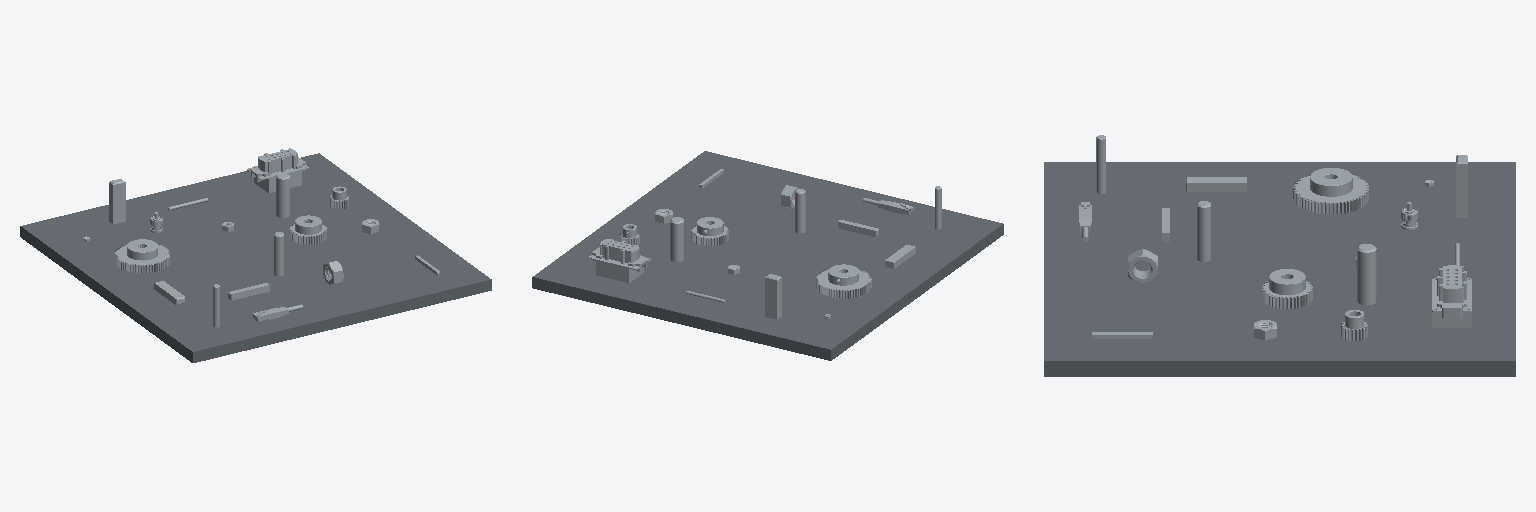
The robot description file, URDF, robot "taskboard_environment":
<?xml version="1.0"?>
<robot name="taskboard_environment">

  <!-- World Frame Root -->
  <link name="world"/>

  <!-- =================================================================== -->
  <!-- ENVIRONMENT OBJECTS & TASKBOARD LINKS                               -->
  <!-- =================================================================== -->

  <link name="taskboard_link">
    <inertial>
      <mass value="1.0" />
      <inertia ixx="0.001" ixy="0.0" ixz="0.0" iyy="0.001" iyz="0.0" izz="0.001" />
    </inertial>
    <visual>
      <geometry>
        <mesh filename="package://project_description/meshes/taskboard_1/dae/Taskboard_Origin.dae" />
      </geometry>
    </visual>
    <collision>
      <geometry>
        <mesh filename="package://project_description/meshes/taskboard_1/dae/Taskboard_Origin.dae" />
      </geometry>
    </collision>
  </link>

  <link name="tray_link">
    <inertial>
      <mass value="0.5" />
      <inertia ixx="0.001" ixy="0.0" ixz="0.0" iyy="0.001" iyz="0.0" izz="0.001" />
    </inertial>
    <visual>
      <geometry>
        <mesh filename="package://project_description/meshes/taskboard_1/dae/Tray.dae" />
      </geometry>
    </visual>
    <collision>
      <geometry>
        <mesh filename="package://project_description/meshes/taskboard_1/dae/Tray.dae" />
      </geometry>
    </collision>
  </link>

  <link name="m16_nut_link">
    <inertial>
      <mass value="0.01" />
      <inertia ixx="0.00001" ixy="0.0" ixz="0.0" iyy="0.00001" iyz="0.0" izz="0.00001" />
    </inertial>
    <visual>
      <geometry>
        <mesh filename="package://project_description/meshes/taskboard_1/dae/M16_Nut.dae" />
      </geometry>
    </visual>
    <collision>
      <geometry>
        <mesh filename="package://project_description/meshes/taskboard_1/dae/M16_Nut.dae" />
      </geometry>
    </collision>
  </link>

  <link name="m12_nut_link">
    <inertial>
      <mass value="0.01" />
      <inertia ixx="0.00001" ixy="0.0" ixz="0.0" iyy="0.00001" iyz="0.0" izz="0.00001" />
    </inertial>
    <visual>
      <geometry>
        <mesh filename="package://project_description/meshes/taskboard_1/dae/M12_Nut.dae" />
      </geometry>
    </visual>
    <collision>
      <geometry>
        <mesh filename="package://project_description/meshes/taskboard_1/dae/M12_Nut.dae" />
      </geometry>
    </collision>
  </link>

  <link name="m8_nut_link">
    <inertial>
      <mass value="0.01" />
      <inertia ixx="0.00001" ixy="0.0" ixz="0.0" iyy="0.00001" iyz="0.0" izz="0.00001" />
    </inertial>
    <visual>
      <geometry>
        <mesh filename="package://project_description/meshes/taskboard_1/dae/M8_Nut.dae" />
      </geometry>
    </visual>
    <collision>
      <geometry>
        <mesh filename="package://project_description/meshes/taskboard_1/dae/M8_Nut.dae" />
      </geometry>
    </collision>
  </link>

  <link name="m4_nut_link">
    <inertial>
      <mass value="0.01" />
      <inertia ixx="0.00001" ixy="0.0" ixz="0.0" iyy="0.00001" iyz="0.0" izz="0.00001" />
    </inertial>
    <visual>
      <geometry>
        <mesh filename="package://project_description/meshes/taskboard_1/dae/M4_Nut.dae" />
      </geometry>
    </visual>
    <collision>
      <geometry>
        <mesh filename="package://project_description/meshes/taskboard_1/dae/M4_Nut.dae" />
      </geometry>
    </collision>
  </link>

  <link name="ket16_link">
    <inertial>
      <mass value="0.01" />
      <inertia ixx="0.00001" ixy="0.0" ixz="0.0" iyy="0.00001" iyz="0.0" izz="0.00001" />
    </inertial>
    <visual>
      <geometry>
        <mesh filename="package://project_description/meshes/taskboard_1/dae/KET16.dae" />
      </geometry>
    </visual>
    <collision>
      <geometry>
        <mesh filename="package://project_description/meshes/taskboard_1/dae/KET16.dae" />
      </geometry>
    </collision>
  </link>

  <link name="ket12_link">
    <inertial>
      <mass value="0.01" />
      <inertia ixx="0.00001" ixy="0.0" ixz="0.0" iyy="0.00001" iyz="0.0" izz="0.00001" />
    </inertial>
    <visual>
      <geometry>
        <mesh filename="package://project_description/meshes/taskboard_1/dae/KET12.dae" />
      </geometry>
    </visual>
    <collision>
      <geometry>
        <mesh filename="package://project_description/meshes/taskboard_1/dae/KET12.dae" />
      </geometry>
    </collision>
  </link>

  <link name="ket8_link">
    <inertial>
      <mass value="0.01" />
      <inertia ixx="0.00001" ixy="0.0" ixz="0.0" iyy="0.00001" iyz="0.0" izz="0.00001" />
    </inertial>
    <visual>
      <geometry>
        <mesh filename="package://project_description/meshes/taskboard_1/dae/KET8.dae" />
      </geometry>
    </visual>
    <collision>
      <geometry>
        <mesh filename="package://project_description/meshes/taskboard_1/dae/KET8.dae" />
      </geometry>
    </collision>
  </link>

  <link name="ket4_link">
    <inertial>
      <mass value="0.01" />
      <inertia ixx="0.00001" ixy="0.0" ixz="0.0" iyy="0.00001" iyz="0.0" izz="0.00001" />
    </inertial>
    <visual>
      <geometry>
        <mesh filename="package://project_description/meshes/taskboard_1/dae/KET4.dae" />
      </geometry>
    </visual>
    <collision>
      <geometry>
        <mesh filename="package://project_description/meshes/taskboard_1/dae/KET4.dae" />
      </geometry>
    </collision>
  </link>

  <link name="gear_large_link">
    <inertial>
      <mass value="0.02" />
      <inertia ixx="0.00001" ixy="0.0" ixz="0.0" iyy="0.00001" iyz="0.0" izz="0.00001" />
    </inertial>
    <visual>
      <geometry>
        <mesh filename="package://project_description/meshes/taskboard_1/dae/Gear_Large.dae" />
      </geometry>
    </visual>
    <collision>
      <geometry>
        <mesh filename="package://project_description/meshes/taskboard_1/dae/Gear_Large.dae" />
      </geometry>
    </collision>
  </link>

  <link name="gear_medium_link">
    <inertial>
      <mass value="0.02" />
      <inertia ixx="0.00001" ixy="0.0" ixz="0.0" iyy="0.00001" iyz="0.0" izz="0.00001" />
    </inertial>
    <visual>
      <geometry>
        <mesh filename="package://project_description/meshes/taskboard_1/dae/Gear_Medium.dae" />
      </geometry>
    </visual>
    <collision>
      <geometry>
        <mesh filename="package://project_description/meshes/taskboard_1/dae/Gear_Medium.dae" />
      </geometry>
    </collision>
  </link>

  <link name="gear_small_link">
    <inertial>
      <mass value="0.02" />
      <inertia ixx="0.00001" ixy="0.0" ixz="0.0" iyy="0.00001" iyz="0.0" izz="0.00001" />
    </inertial>
    <visual>
      <geometry>
        <mesh filename="package://project_description/meshes/taskboard_1/dae/Gear_Small.dae" />
      </geometry>
    </visual>
    <collision>
      <geometry>
        <mesh filename="package://project_description/meshes/taskboard_1/dae/Gear_Small.dae" />
      </geometry>
    </collision>
  </link>

  <link name="rcog16-50_link">
    <inertial>
      <mass value="0.01" />
      <inertia ixx="0.00001" ixy="0.0" ixz="0.0" iyy="0.00001" iyz="0.0" izz="0.00001" />
    </inertial>
    <visual>
      <geometry>
        <mesh filename="package://project_description/meshes/taskboard_1/dae/RGOCG16-50.dae" />
      </geometry>
    </visual>
    <collision>
      <geometry>
        <mesh filename="package://project_description/meshes/taskboard_1/dae/RGOCG16-50.dae" />
      </geometry>
    </collision>
  </link>

  <link name="rcog12-50_link">
    <inertial>
      <mass value="0.01" />
      <inertia ixx="0.00001" ixy="0.0" ixz="0.0" iyy="0.00001" iyz="0.0" izz="0.00001" />
    </inertial>
    <visual>
      <geometry>
        <mesh filename="package://project_description/meshes/taskboard_1/dae/RGOCG12-50.dae" />
      </geometry>
    </visual>
    <collision>
      <geometry>
        <mesh filename="package://project_description/meshes/taskboard_1/dae/RGOCG12-50.dae" />
      </geometry>
    </collision>
  </link>

  <link name="rcog8-50_link">
    <inertial>
      <mass value="0.01" />
      <inertia ixx="0.00001" ixy="0.0" ixz="0.0" iyy="0.00001" iyz="0.0" izz="0.00001" />
    </inertial>
    <visual>
      <geometry>
        <mesh filename="package://project_description/meshes/taskboard_1/dae/RGOCG8-50.dae" />
      </geometry>
    </visual>
    <collision>
      <geometry>
        <mesh filename="package://project_description/meshes/taskboard_1/dae/RGOCG8-50.dae" />
      </geometry>
    </collision>
  </link>

  <link name="rcog4-50_link">
    <inertial>
      <mass value="0.01" />
      <inertia ixx="0.00001" ixy="0.0" ixz="0.0" iyy="0.00001" iyz="0.0" izz="0.00001" />
    </inertial>
    <visual>
      <geometry>
        <mesh filename="package://project_description/meshes/taskboard_1/dae/RGOCG4-50.dae" />
      </geometry>
    </visual>
    <collision>
      <geometry>
        <mesh filename="package://project_description/meshes/taskboard_1/dae/RGOCG4-50.dae" />
      </geometry>
    </collision>
  </link>

  <link name="usb_male_link">
    <inertial>
      <mass value="0.01" />
      <inertia ixx="0.00001" ixy="0.0" ixz="0.0" iyy="0.00001" iyz="0.0" izz="0.00001" />
    </inertial>
    <visual>
      <geometry>
        <mesh filename="package://project_description/meshes/taskboard_1/dae/USB_Male.dae" />
      </geometry>
    </visual>
    <collision>
      <geometry>
        <mesh filename="package://project_description/meshes/taskboard_1/dae/USB_Male.dae" />
      </geometry>
    </collision>
  </link>

  <link name="bnc_male_link">
    <inertial>
      <mass value="0.01" />
      <inertia ixx="0.00001" ixy="0.0" ixz="0.0" iyy="0.00001" iyz="0.0" izz="0.00001" />
    </inertial>
    <visual>
      <geometry>
        <mesh filename="package://project_description/meshes/taskboard_1/dae/BNC_Male.dae" />
      </geometry>
    </visual>
    <collision>
      <geometry>
        <mesh filename="package://project_description/meshes/taskboard_1/dae/BNC_Male.dae" />
      </geometry>
    </collision>
  </link>

  <link name="dsub_male_link">
    <inertial>
      <mass value="0.01" />
      <inertia ixx="0.00001" ixy="0.0" ixz="0.0" iyy="0.00001" iyz="0.0" izz="0.00001" />
    </inertial>
    <visual>
      <geometry>
        <mesh filename="package://project_description/meshes/taskboard_1/dae/DSUB_Male.dae" />
      </geometry>
    </visual>
    <collision>
      <geometry>
        <mesh filename="package://project_description/meshes/taskboard_1/dae/DSUB_Male.dae" />
      </geometry>
    </collision>
  </link>

  <link name="rj45_male_link">
    <inertial>
      <mass value="0.01" />
      <inertia ixx="0.00001" ixy="0.0" ixz="0.0" iyy="0.00001" iyz="0.0" izz="0.00001" />
    </inertial>
    <visual>
      <geometry>
        <mesh filename="package://project_description/meshes/taskboard_1/dae/RJ45_Male.dae" />
      </geometry>
    </visual>
    <collision>
      <geometry>
        <mesh filename="package://project_description/meshes/taskboard_1/dae/RJ45_Male.dae" />
      </geometry>
    </collision>
  </link>

  <link name="mcon-e10-sp_link">
    <inertial>
      <mass value="0.01" />
      <inertia ixx="0.00001" ixy="0.0" ixz="0.0" iyy="0.00001" iyz="0.0" izz="0.00001" />
    </inertial>
    <visual>
      <geometry>
        <mesh filename="package://project_description/meshes/taskboard_1/dae/MCON-E10-SP.dae" />
      </geometry>
    </visual>
    <collision>
      <geometry>
        <mesh filename="package://project_description/meshes/taskboard_1/dae/MCON-E10-SP.dae" />
      </geometry>
    </collision>
  </link>

  <!-- =================================================================== -->
  <!-- ENVIRONMENT JOINTS (FIXED TO WORLD)                                 -->
  <!-- =================================================================== -->

<joint name="taskboard_joint" type="fixed">
    <parent link="world" />
    <child link="taskboard_link" />
    <origin xyz="0.4 -0.25 0.1755" rpy="0 0 0" />
  </joint>

  <joint name="tray_joint" type="fixed">
    <parent link="world" />
    <child link="tray_link" />
    <origin xyz="0.4 0.25 0.18" rpy="0 0 0" />
  </joint>

  <joint name="m16_nut_joint" type="fixed">
    <parent link="world" />
    <child link="m16_nut_link" />
    <origin xyz="0.435 0.138 0.192" rpy="-0.000407 1.57059 -0.000407" />
  </joint>

  <joint name="m12_nut_joint" type="fixed">
    <parent link="world" />
    <child link="m12_nut_link" />
    <origin xyz="0.541 0.238 0.184" rpy="0 0 0" />
  </joint>

  <joint name="m8_nut_joint" type="fixed">
    <parent link="world" />
    <child link="m8_nut_link" />
    <origin xyz="0.404 0.319 0.183" rpy="0 0 0" />
  </joint>

  <joint name="m4_nut_joint" type="fixed">
    <parent link="world" />
    <child link="m4_nut_link" />
    <origin xyz="0.252 0.372 0.182" rpy="0 0 0" />
  </joint>

  <joint name="ket16_joint" type="fixed">
    <parent link="world" />
    <child link="ket16_link" />
    <origin xyz="0.307 0.399 0.205" rpy="0 0 0" />
  </joint>

  <joint name="ket12_joint" type="fixed">
    <parent link="world" />
    <child link="ket12_link" />
    <origin xyz="0.259 0.198 0.184" rpy="1.571 0 0" />
  </joint>

  <joint name="ket8_joint" type="fixed">
    <parent link="world" />
    <child link="ket8_link" />
    <origin xyz="0.337 0.157 0.184" rpy="0.000407 -1.57059 -0.000407" />
  </joint>

  <joint name="ket4_joint" type="fixed">
    <parent link="world" />
    <child link="ket4_link" />
    <origin xyz="0.547 0.121 0.182" rpy="1.571 0 0" />
  </joint>

  <joint name="gear_large_joint" type="fixed">
    <parent link="world" />
    <child link="gear_large_link" />
    <origin xyz="0.278 0.292 0.19" rpy="3.14118 0 -3.14118" />
  </joint>

  <joint name="gear_medium_joint" type="fixed">
    <parent link="world" />
    <child link="gear_medium_link" />
    <origin xyz="0.471 0.256 0.19" rpy="3.14118 0 3.14118" />
  </joint>

  <joint name="gear_small_joint" type="fixed">
    <parent link="world" />
    <child link="gear_small_link" />
    <origin xyz="0.543 0.311 0.19" rpy="-3.14118 0 -3.14118" />
  </joint>

  <joint name="rcog16_50_joint" type="fixed">
    <parent link="world" />
    <child link="rcog16-50_link" />
    <origin xyz="0.476 0.321 0.204" rpy="0 0 0" />
  </joint>

  <joint name="rcog12_50_joint" type="fixed">
    <parent link="world" />
    <child link="rcog12-50_link" />
    <origin xyz="0.394 0.188 0.205" rpy="0 0 0" />
  </joint>

  <joint name="rcog8_50_joint" type="fixed">
    <parent link="world" />
    <child link="rcog8-50_link" />
    <origin xyz="0.265 0.104 0.205" rpy="0 0 0" />
  </joint>

  <joint name="rcog4_50_joint" type="fixed">
    <parent link="world" />
    <child link="rcog4-50_link" />
    <origin xyz="0.396 0.395 0.182" rpy="-0.01159 -1.57059 0.01159" />
  </joint>

  <joint name="usb_male_joint" type="fixed">
    <parent link="world" />
    <child link="usb_male_link" />
    <origin xyz="0.494 0.108 0.184" rpy="-1.571 0 -3.141593" />
  </joint>

  <joint name="bnc_male_joint" type="fixed">
    <parent link="world" />
    <child link="bnc_male_link" />
    <origin xyz="0.333 0.356 0.191" rpy="3.14118 0 0" />
  </joint>

  <joint name="dsub_male_joint" type="fixed">
    <parent link="world" />
    <child link="dsub_male_link" />
    <origin xyz="0.366 0.245 0.188" rpy="-1.571 0 0" />
  </joint>

  <joint name="rj45_male_joint" type="fixed">
    <parent link="world" />
    <child link="rj45_male_link" />
    <origin xyz="0.337 0.091 0.18688" rpy="0 0 0" />
  </joint>

  <joint name="mcon_e10_sp_joint" type="fixed">
    <parent link="world" />
    <child link="mcon-e10-sp_link" />
    <origin xyz="0.50978 0.39078 0.19978" rpy="0 0 0" />
  </joint>
</robot>

--- Facts derived from the render (not from the file) ---
3 views of the same robot in one strip: view 1: azimuth 30°, elevation 25°; view 2: azimuth 150°, elevation 25°; view 3: azimuth 270°, elevation 25° (orthographic).
Model taskboard_environment with 23 links and 22 joints (22 fixed), rooted at world, posed every joint at zero.
Visible links, largest first — view 1: tray_link, mcon-e10-sp_link, gear_large_link, gear_medium_link, ket16_link, rcog16-50_link; view 2: tray_link, mcon-e10-sp_link, gear_large_link, gear_medium_link, ket16_link, rcog16-50_link; view 3: tray_link, gear_large_link, mcon-e10-sp_link, gear_medium_link, rcog16-50_link, ket12_link, rcog12-50_link, m16_nut_link, ket16_link, gear_small_link, rcog8-50_link.
Link boxes in pixels (x1,y1,x2,y2): tray_link: [20, 153, 491, 362]; mcon-e10-sp_link: [247, 148, 308, 192]; gear_large_link: [115, 239, 169, 273]; gear_medium_link: [290, 215, 326, 244]; ket16_link: [109, 179, 125, 224]; rcog16-50_link: [276, 173, 289, 217]; tray_link: [532, 151, 1003, 360]; mcon-e10-sp_link: [589, 239, 650, 282]; gear_large_link: [816, 264, 871, 298]; gear_medium_link: [691, 217, 728, 246]; ket16_link: [765, 274, 781, 319]; rcog16-50_link: [670, 217, 683, 261]; tray_link: [1044, 162, 1515, 376]; gear_large_link: [1293, 168, 1368, 214]; mcon-e10-sp_link: [1432, 265, 1471, 327]; gear_medium_link: [1262, 269, 1312, 308]; rcog16-50_link: [1357, 244, 1376, 304]; ket12_link: [1186, 177, 1246, 191]; rcog12-50_link: [1197, 201, 1210, 261]; m16_nut_link: [1128, 249, 1157, 282]; ket16_link: [1456, 155, 1467, 217]; gear_small_link: [1341, 310, 1367, 340]; rcog8-50_link: [1096, 135, 1105, 193].
Bounding box of the posed robot: 0.385 × 0.385 × 0.064 m (x, y, z).
19 mesh visuals loaded from 22 distinct referenced files (19 Collada DAE); not drawn: 3 (reference not matched to a file when rendering).
